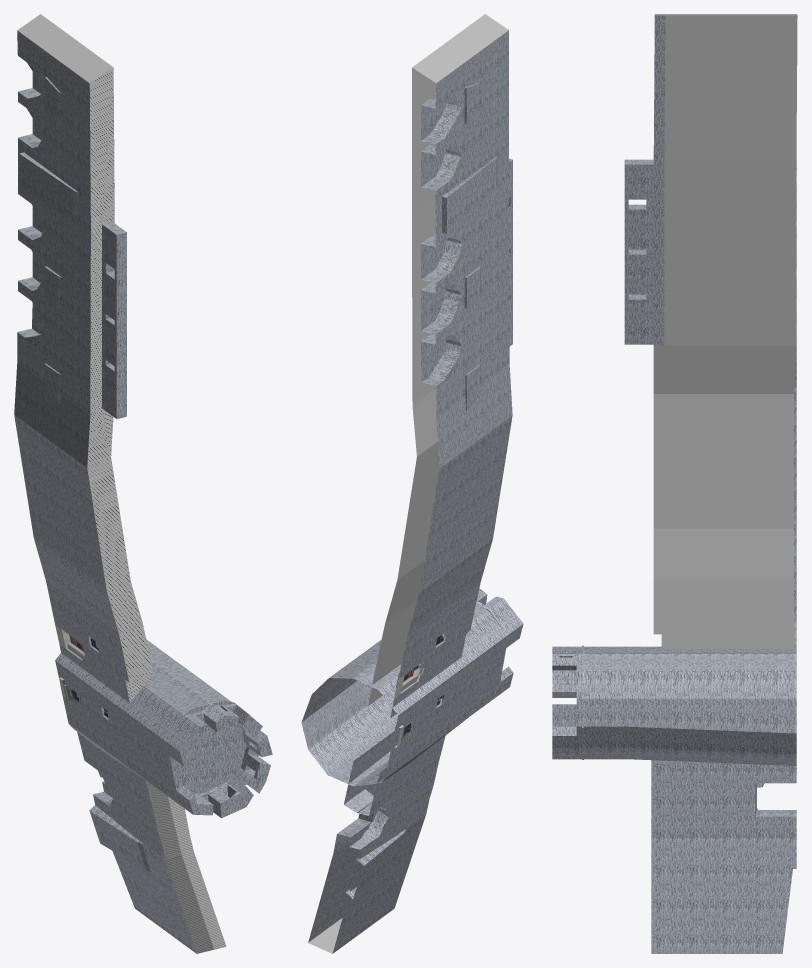
Rendered from vene_tn_myyr-origo.obj.
3 renders of one model, left to right at view 1: azimuth 30°, elevation 25°; view 2: azimuth 150°, elevation 25°; view 3: azimuth 270°, elevation 25°, orthographic. The views are drawn at different scales.
Visible parts, largest first — view 1: venemyyr, xxx; view 2: venemyyr, xxx; view 3: xxx, venemyyr.
Boxes of the visible parts, <box> form: venemyyr: <box>14,30,272,953</box>; xxx: <box>17,14,215,949</box>; venemyyr: <box>301,30,523,953</box>; xxx: <box>308,14,508,953</box>; xxx: <box>653,14,797,648</box>; venemyyr: <box>552,15,796,953</box>.
Size of the model in its own units: 14.25 by 89 by 22.19.
